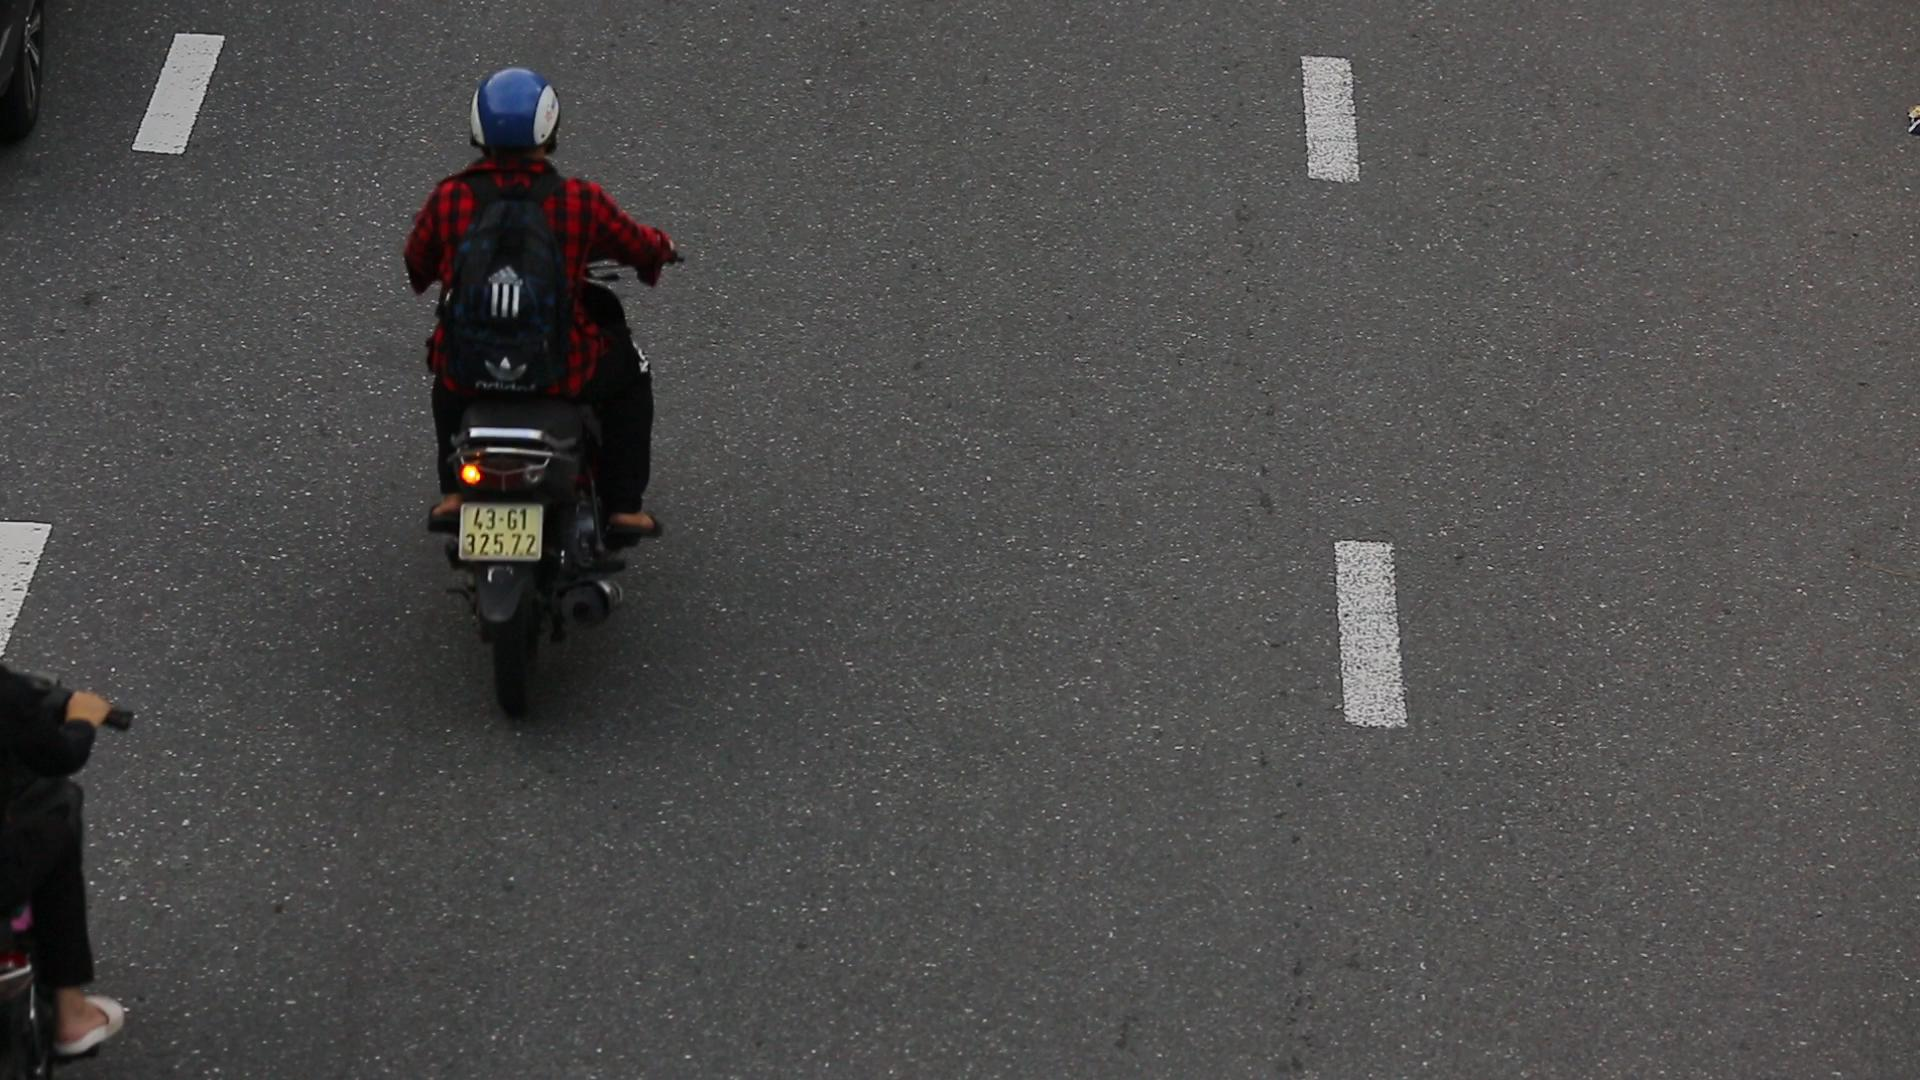motobike: (386, 45, 674, 694)
